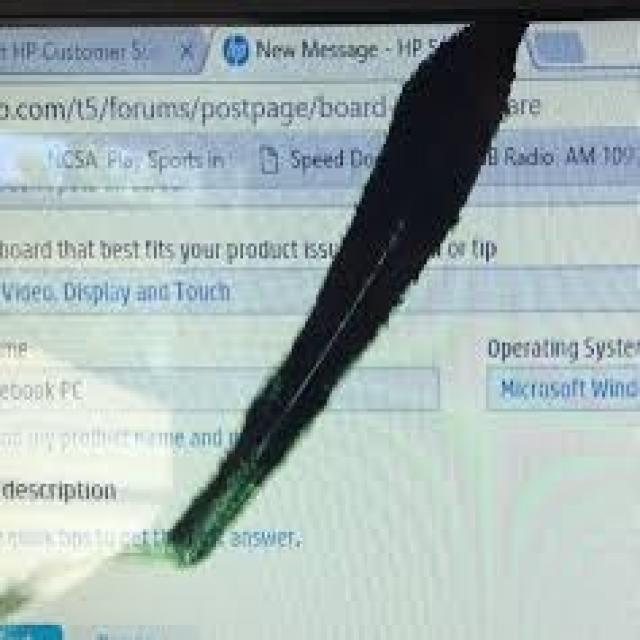Screen cracks: (138, 24, 570, 604)
